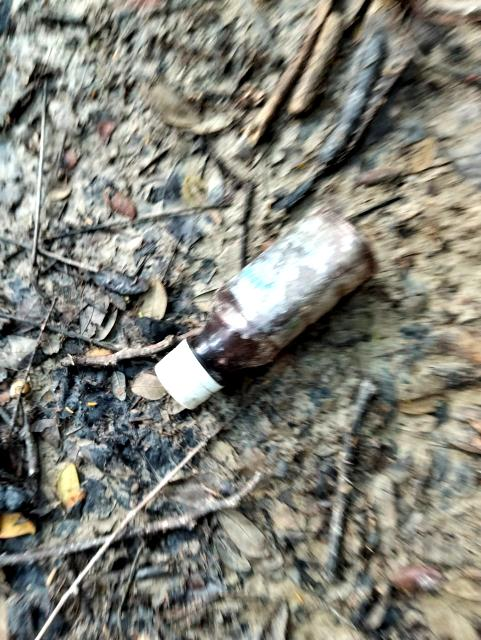bottle: (123, 192, 399, 433)
